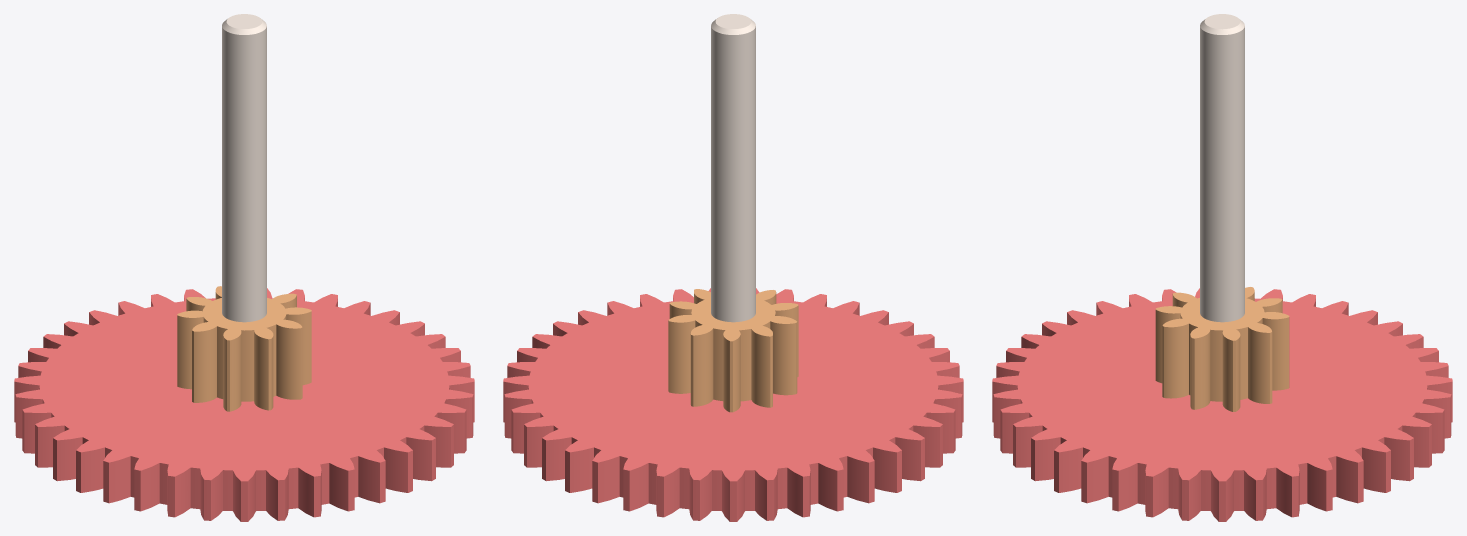
File: gear-sub1.fbx
3 views of the same model, side by side, from view 1: azimuth 30°, elevation 25°; view 2: azimuth 150°, elevation 25°; view 3: azimuth 270°, elevation 25° (orthographic).
Visible parts, largest first — view 1: spur gear_iso-2, shaft-1, spur gear_iso-4; view 2: spur gear_iso-2, shaft-1, spur gear_iso-4; view 3: spur gear_iso-2, shaft-1, spur gear_iso-4.
Part boxes in pixels (left/top/right/bottom): spur gear_iso-2: left=14, top=288, right=474, bottom=521; shaft-1: left=222, top=14, right=266, bottom=322; spur gear_iso-4: left=177, top=286, right=311, bottom=411; spur gear_iso-2: left=503, top=288, right=963, bottom=521; shaft-1: left=711, top=14, right=755, bottom=322; spur gear_iso-4: left=668, top=289, right=798, bottom=412; spur gear_iso-2: left=992, top=288, right=1452, bottom=521; shaft-1: left=1200, top=14, right=1244, bottom=322; spur gear_iso-4: left=1155, top=287, right=1289, bottom=411.
Bounding box in the file's own units: 10.24 × 10.65 × 10.25.
